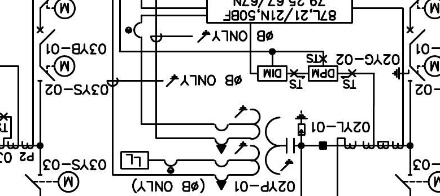115_1way_ds_w_motor: (24, 171, 80, 194), (37, 55, 76, 82)
115_breaker: (406, 26, 426, 45), (36, 26, 56, 45)
115_cvt_1p: (213, 105, 295, 191)
115_la: (295, 110, 308, 136)
DIM: (257, 65, 288, 82)
DPM: (308, 65, 339, 82)
LL: (120, 151, 149, 170)
